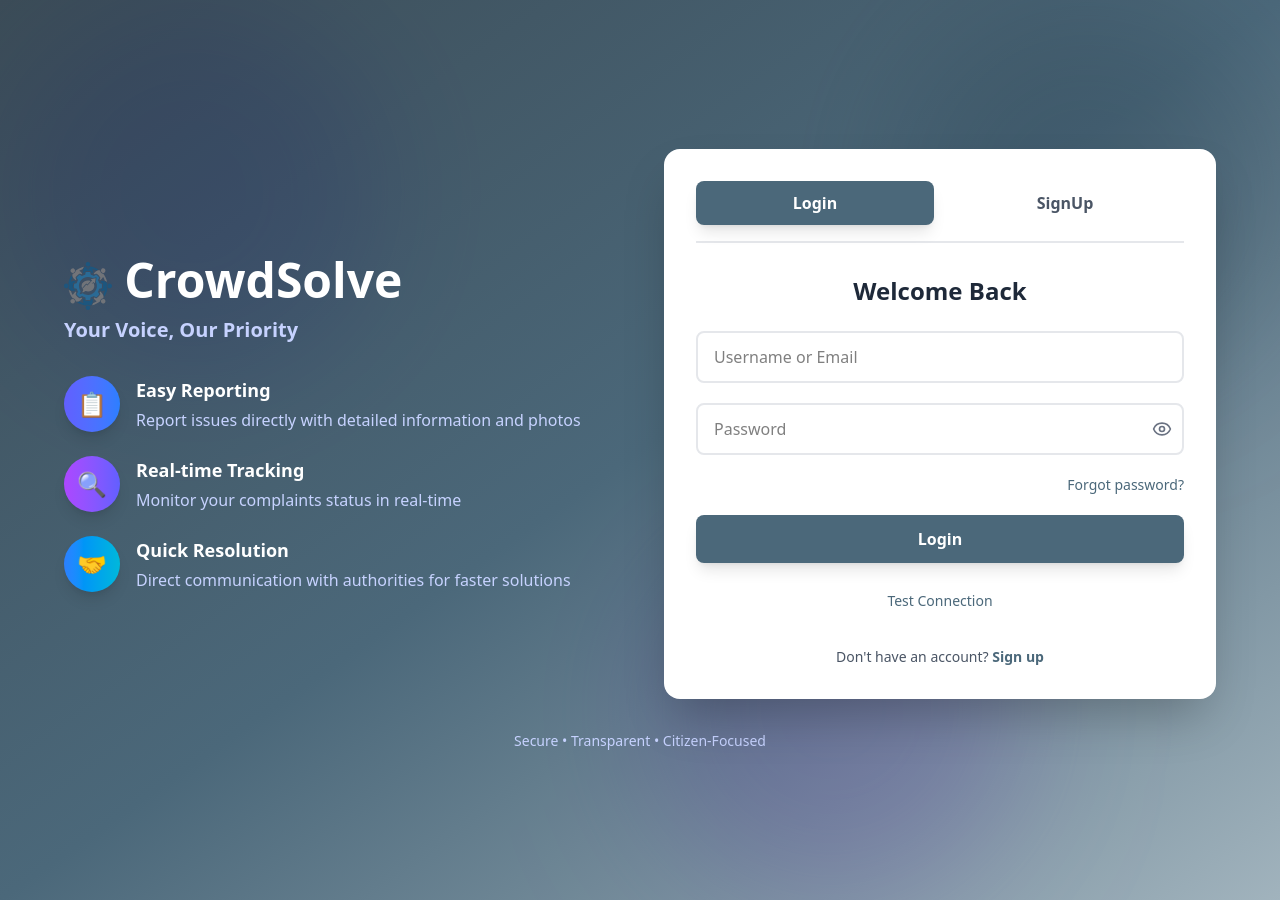
Test case: LoginForm - Full Coverage › handles 401 login error
Type "wrong" into the field with placeholder "Username or Email" at (940, 357), box [696, 331, 1184, 383]
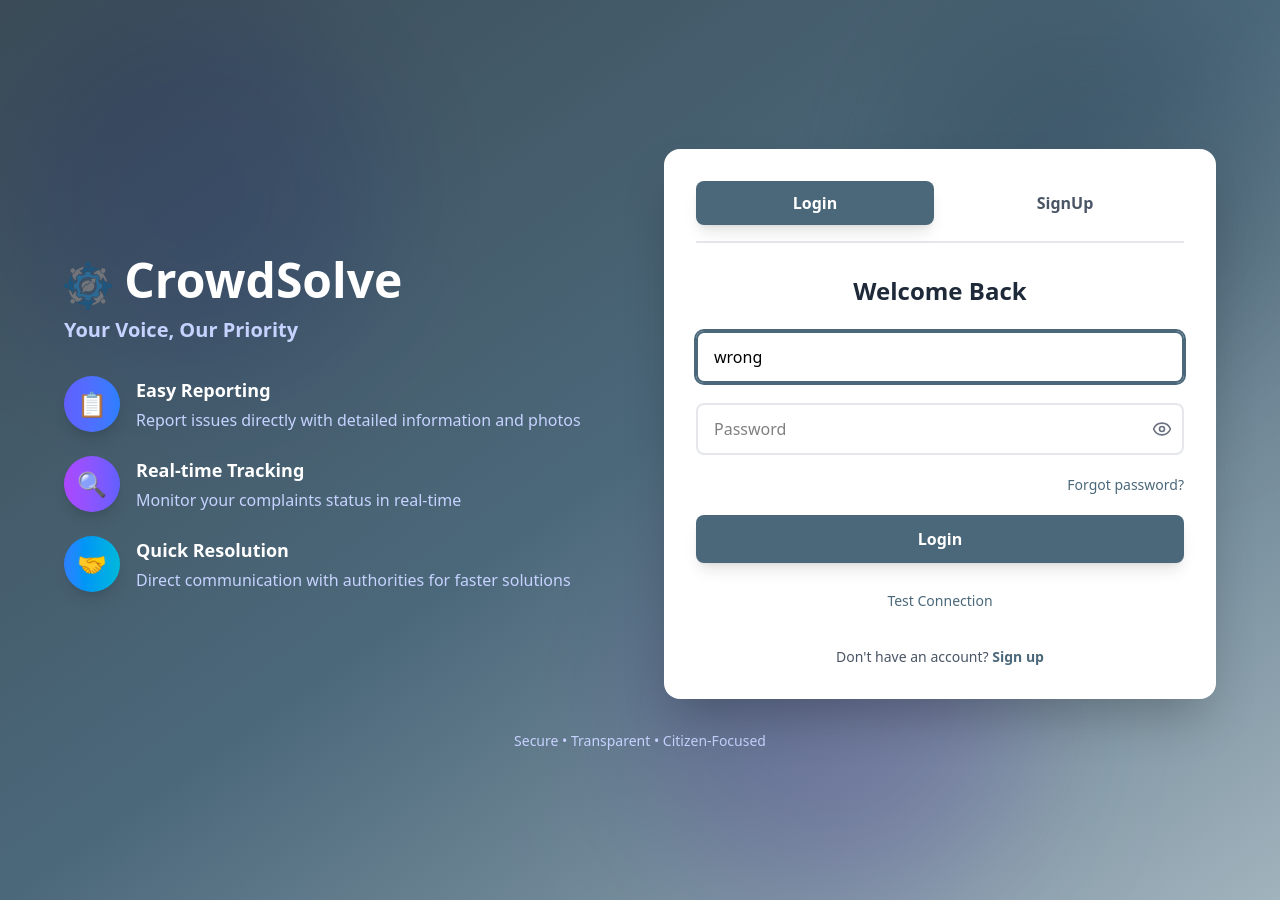
Type "wrong" into the password field with placeholder "Password" at (940, 429), box [696, 403, 1184, 455]
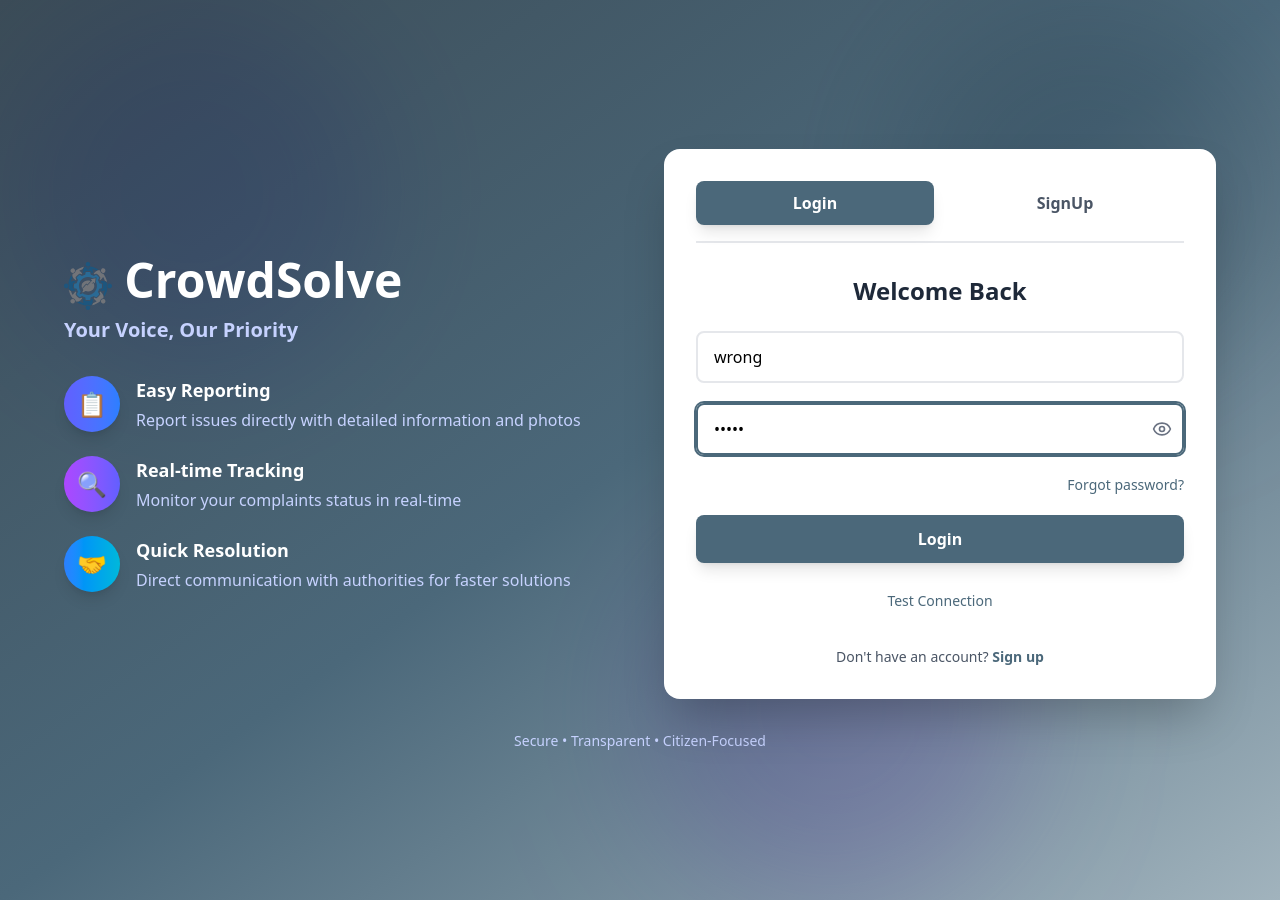
Click the button "Login" below "Welcome Back" at (940, 539), box [696, 515, 1184, 563]
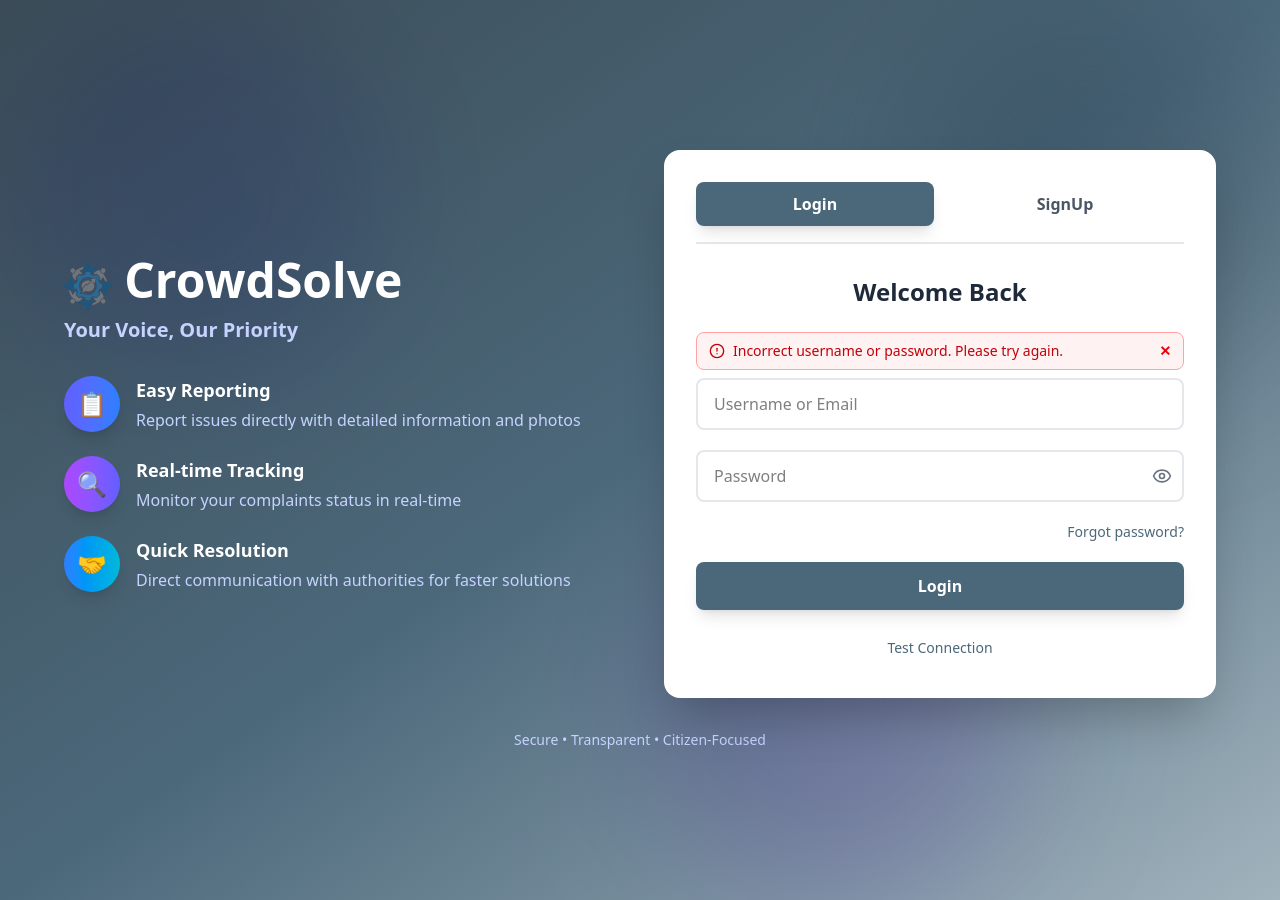
Check: the text "Incorrect username or password. Please try again." is shown, box [733, 341, 1063, 361]
